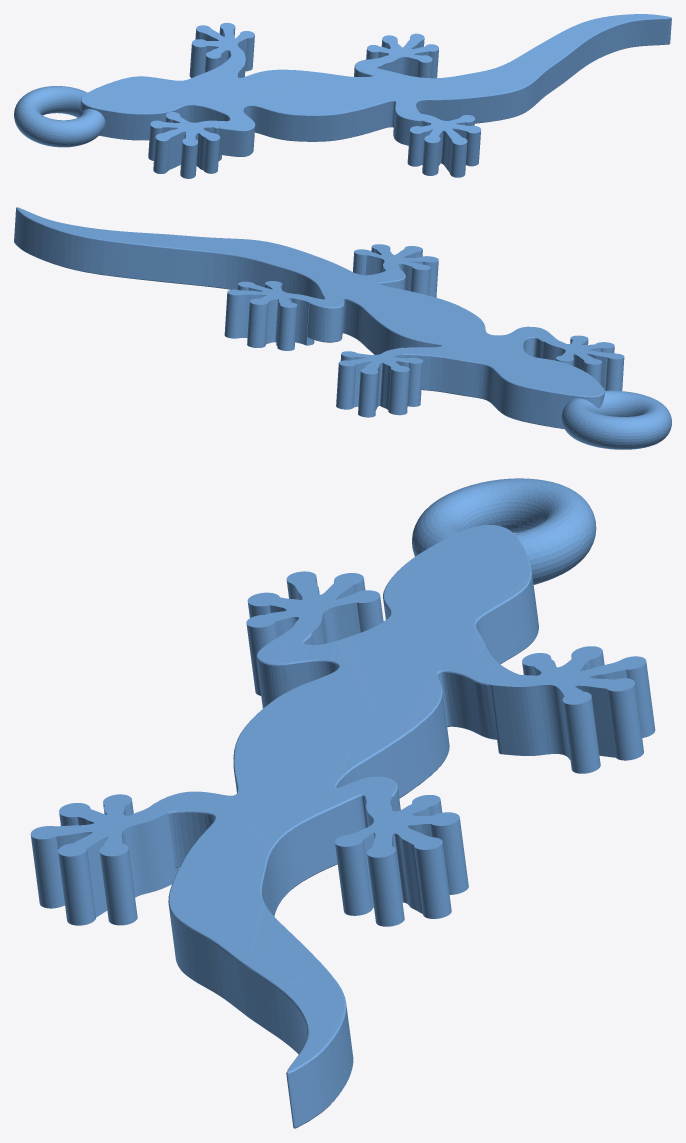
File: pendentif_t.fbx
3 renders of one model, top to bottom at view 1: azimuth 30°, elevation 25°; view 2: azimuth 150°, elevation 25°; view 3: azimuth 270°, elevation 25°, orthographic. The views are drawn at different scales.
Visible parts, largest first — view 1: 1; view 2: 1; view 3: 1.
Part boxes in pixels (x1,y1,x2,y2): 1: (14,14,671,178); 1: (14,207,671,449); 1: (30,478,655,1128).
Bounding box in the file's own units: 11.46 × 1.24 × 5.19.
